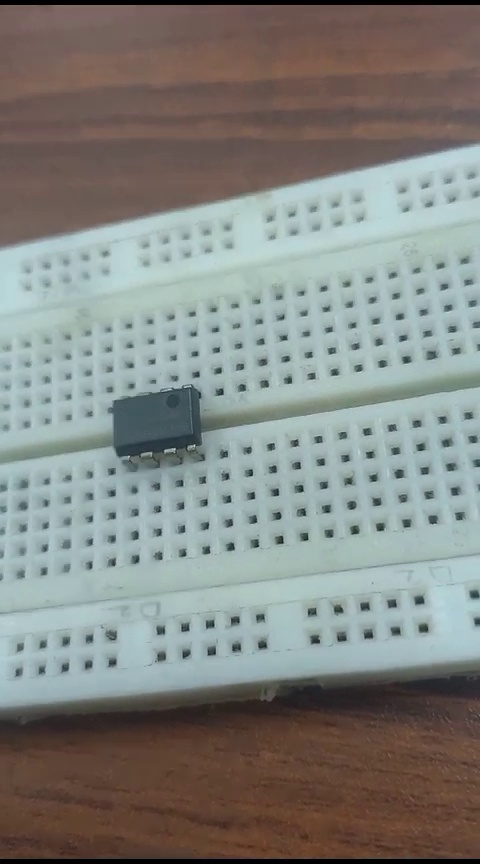IC: (92, 379, 231, 463)
